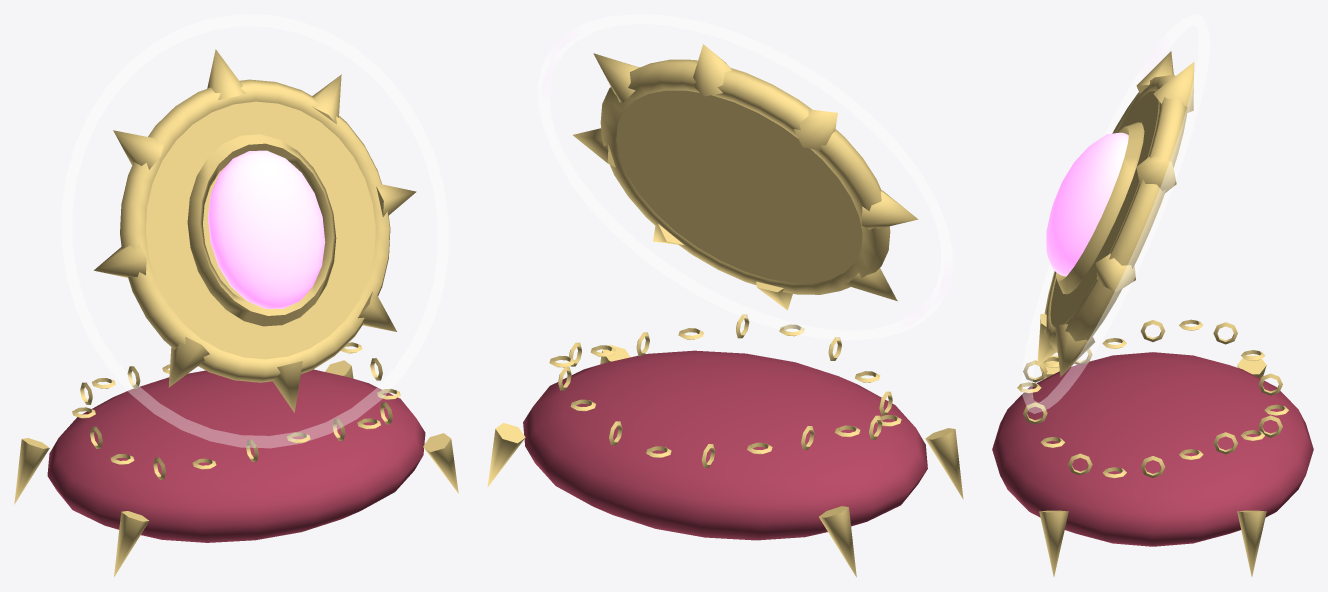
The model's file is amulet.glb.
The picture shows the model from 3 angles, left to right: view 1: azimuth 30°, elevation 25°; view 2: azimuth 150°, elevation 25°; view 3: azimuth 270°, elevation 25°; orthographic projection. The views are drawn at different scales.
Visible parts, largest first — view 1: amulet; view 2: amulet; view 3: amulet.
Part boxes in pixels (<box>): amulet: <box>14,14,458,576</box>; amulet: <box>487,14,963,577</box>; amulet: <box>992,14,1313,576</box>.
Bounding box in the file's own units: 0.35 × 0.4136 × 0.26.
